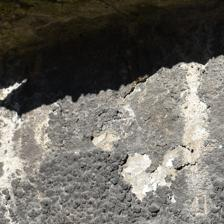Crack: (31, 35, 133, 86), (71, 8, 97, 68), (58, 83, 98, 120)
